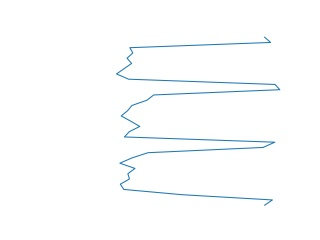majorRiverChannelBar: (113, 37, 283, 205)
